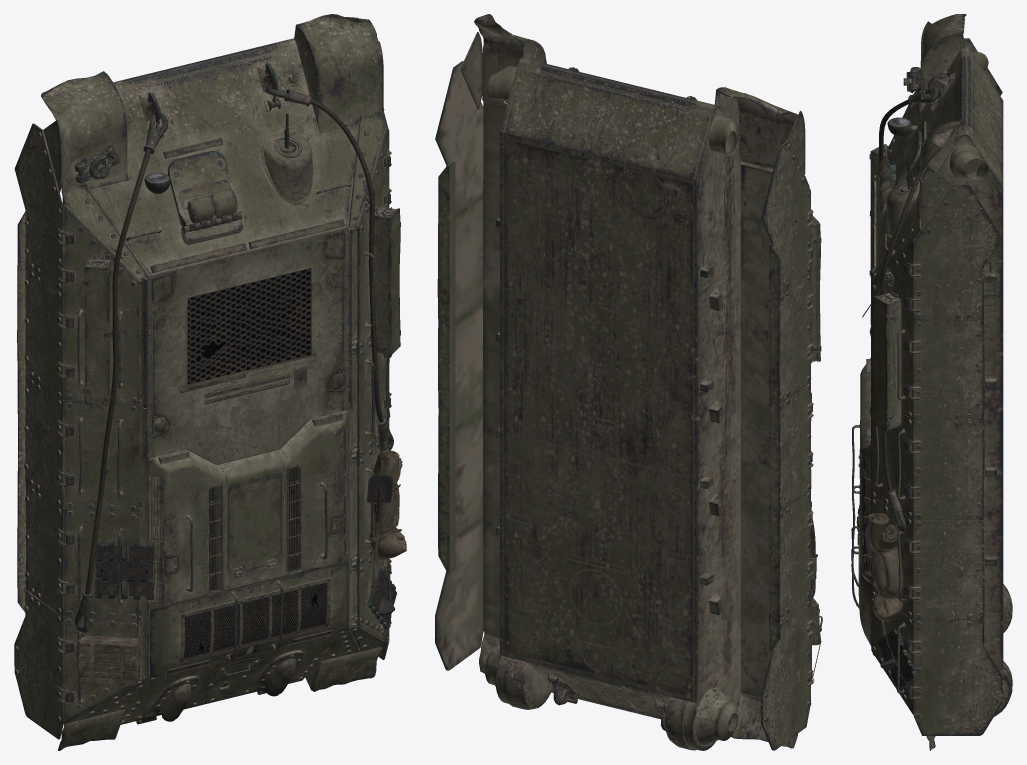
File: Hull.glb
3 renders of one model, left to right at view 1: azimuth 30°, elevation 25°; view 2: azimuth 150°, elevation 25°; view 3: azimuth 270°, elevation 25°, orthographic. The views are drawn at different scales.
Visible parts, largest first — view 1: set_0_group_0; view 2: set_0_group_0; view 3: set_0_group_0.
Part boxes in pixels (x1,y1,x2,y2): set_0_group_0: (14,14,406,750); set_0_group_0: (435,14,822,750); set_0_group_0: (851,14,1012,750).
Bounding box in the file's own units: 3.22 × 5.97 × 1.42.
1 material, 1 textured.
